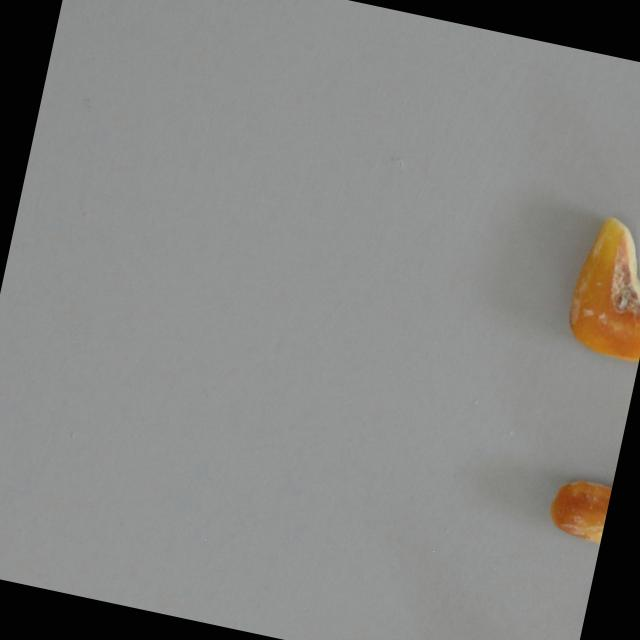dañado: (558, 207, 640, 365), (538, 469, 613, 553)
